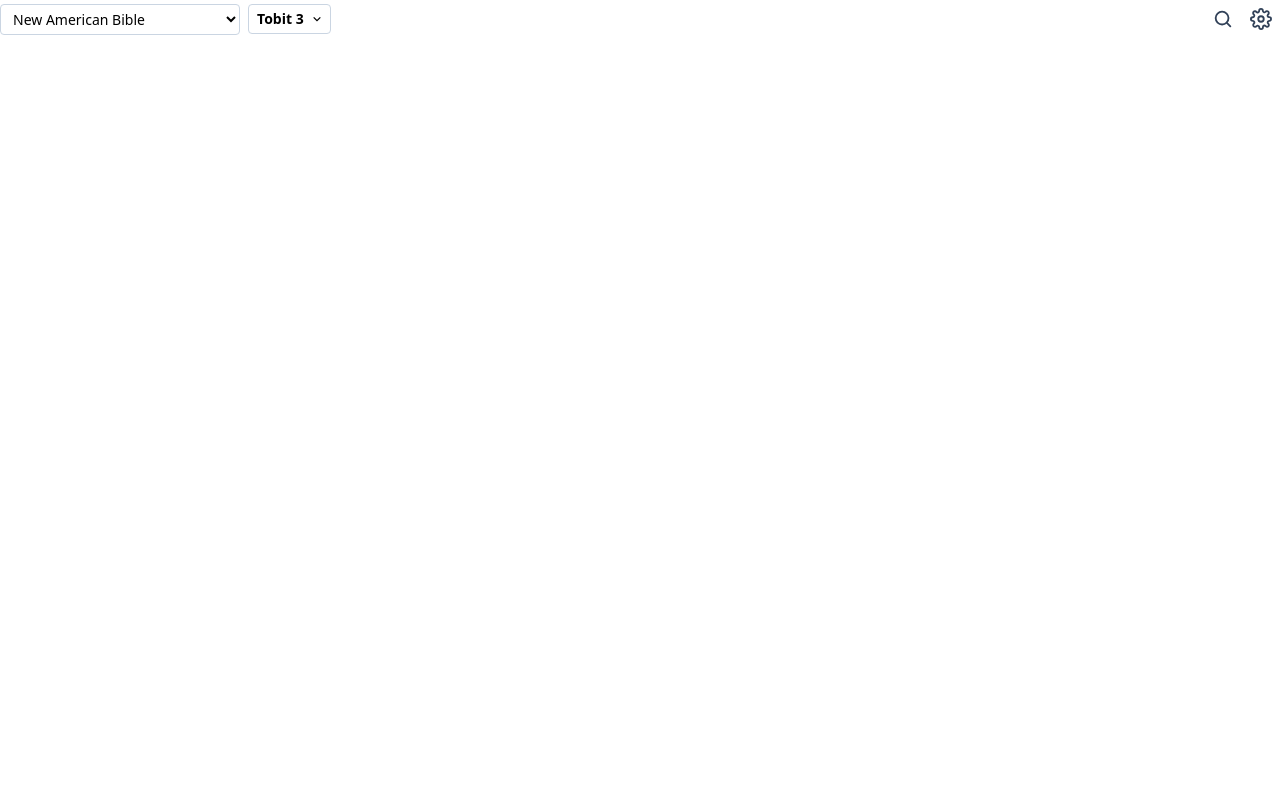
Scenario: ReaderBar › thePanelClosesWhenTheReaderMovesOn
What coordinates should you click on to do the following:
click the button with aria-label "Go to another book or chapter"
I would click on:
 (289, 19)
Its box is [248,4,331,34].
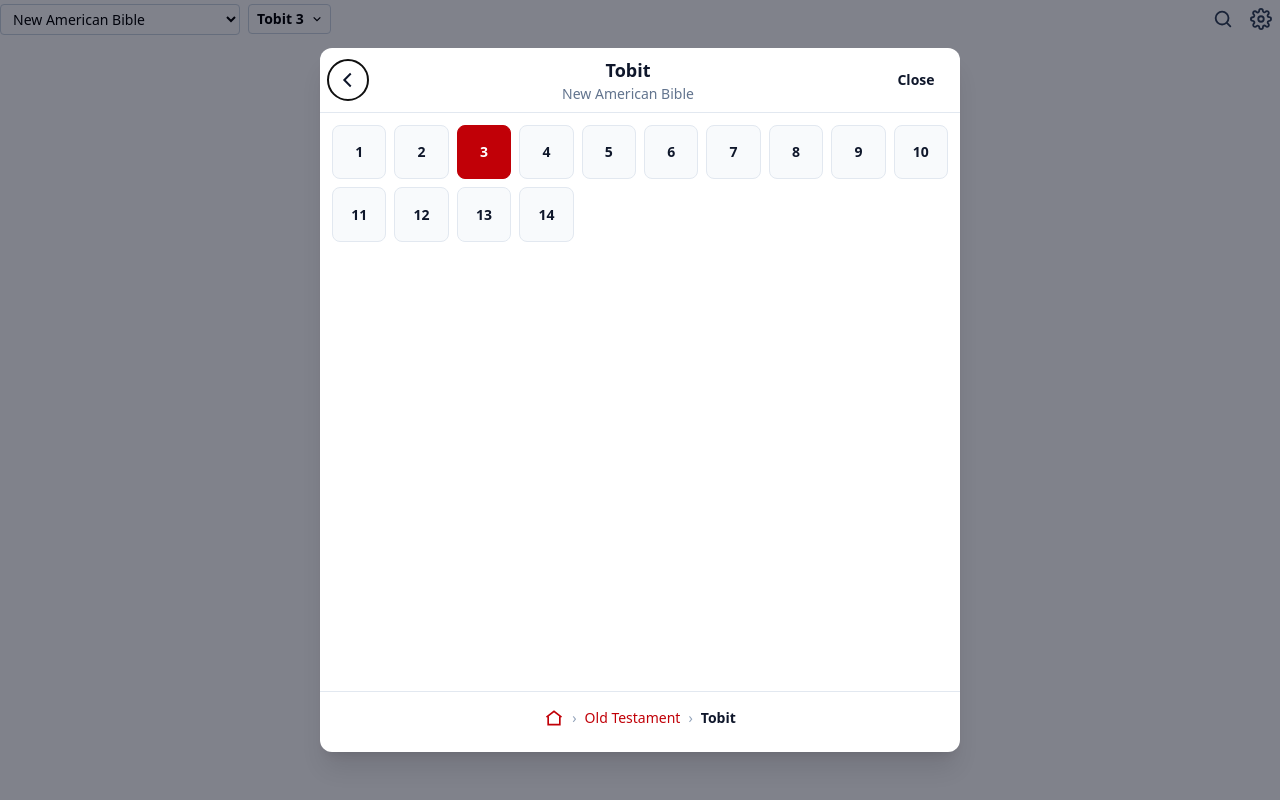
Expected: the dialog "Tobit" is shown, [320,48,960,752]
